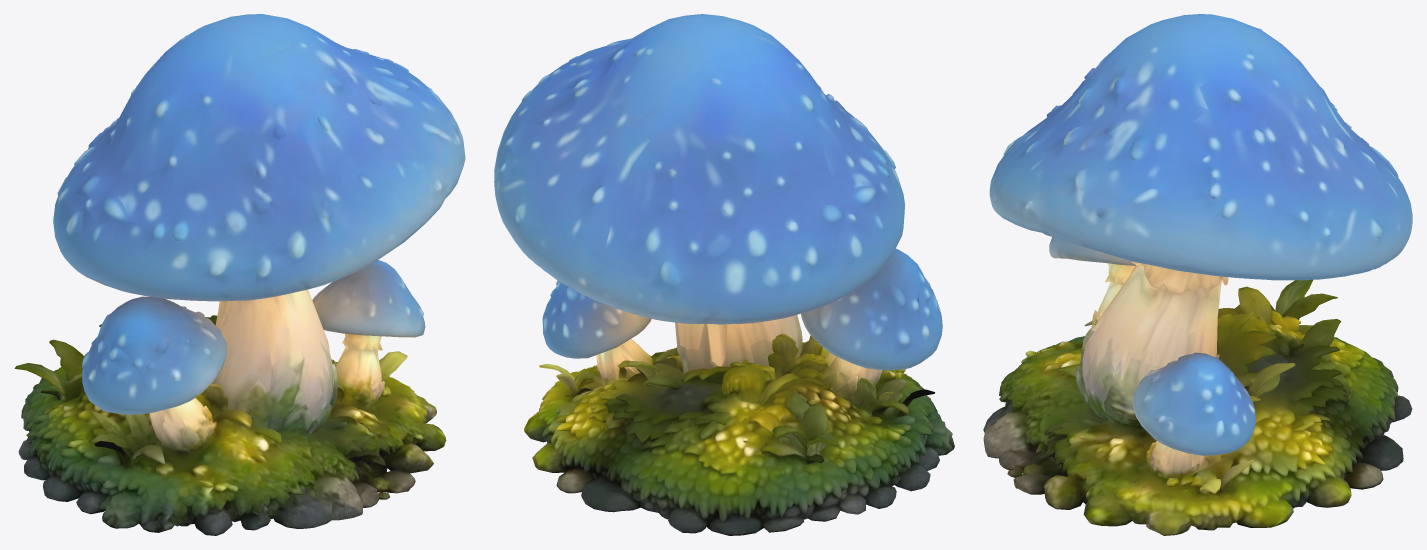
File: glow_mushroom.glb
3 views of the same model, side by side, from view 1: azimuth 30°, elevation 25°; view 2: azimuth 150°, elevation 25°; view 3: azimuth 270°, elevation 25° (orthographic). The views are drawn at different scales.
Parts seen in each view (by area): view 1: GlowMushroom; view 2: GlowMushroom; view 3: GlowMushroom.
Boxes of the visible parts, x1=… form: GlowMushroom: x1=14, y1=14, x2=465, y2=535; GlowMushroom: x1=494, y1=14, x2=954, y2=535; GlowMushroom: x1=983, y1=14, x2=1412, y2=535.
Bounding box in the file's own units: 1 × 1 × 0.9006.
Materials: 1 (1 with a texture image).
